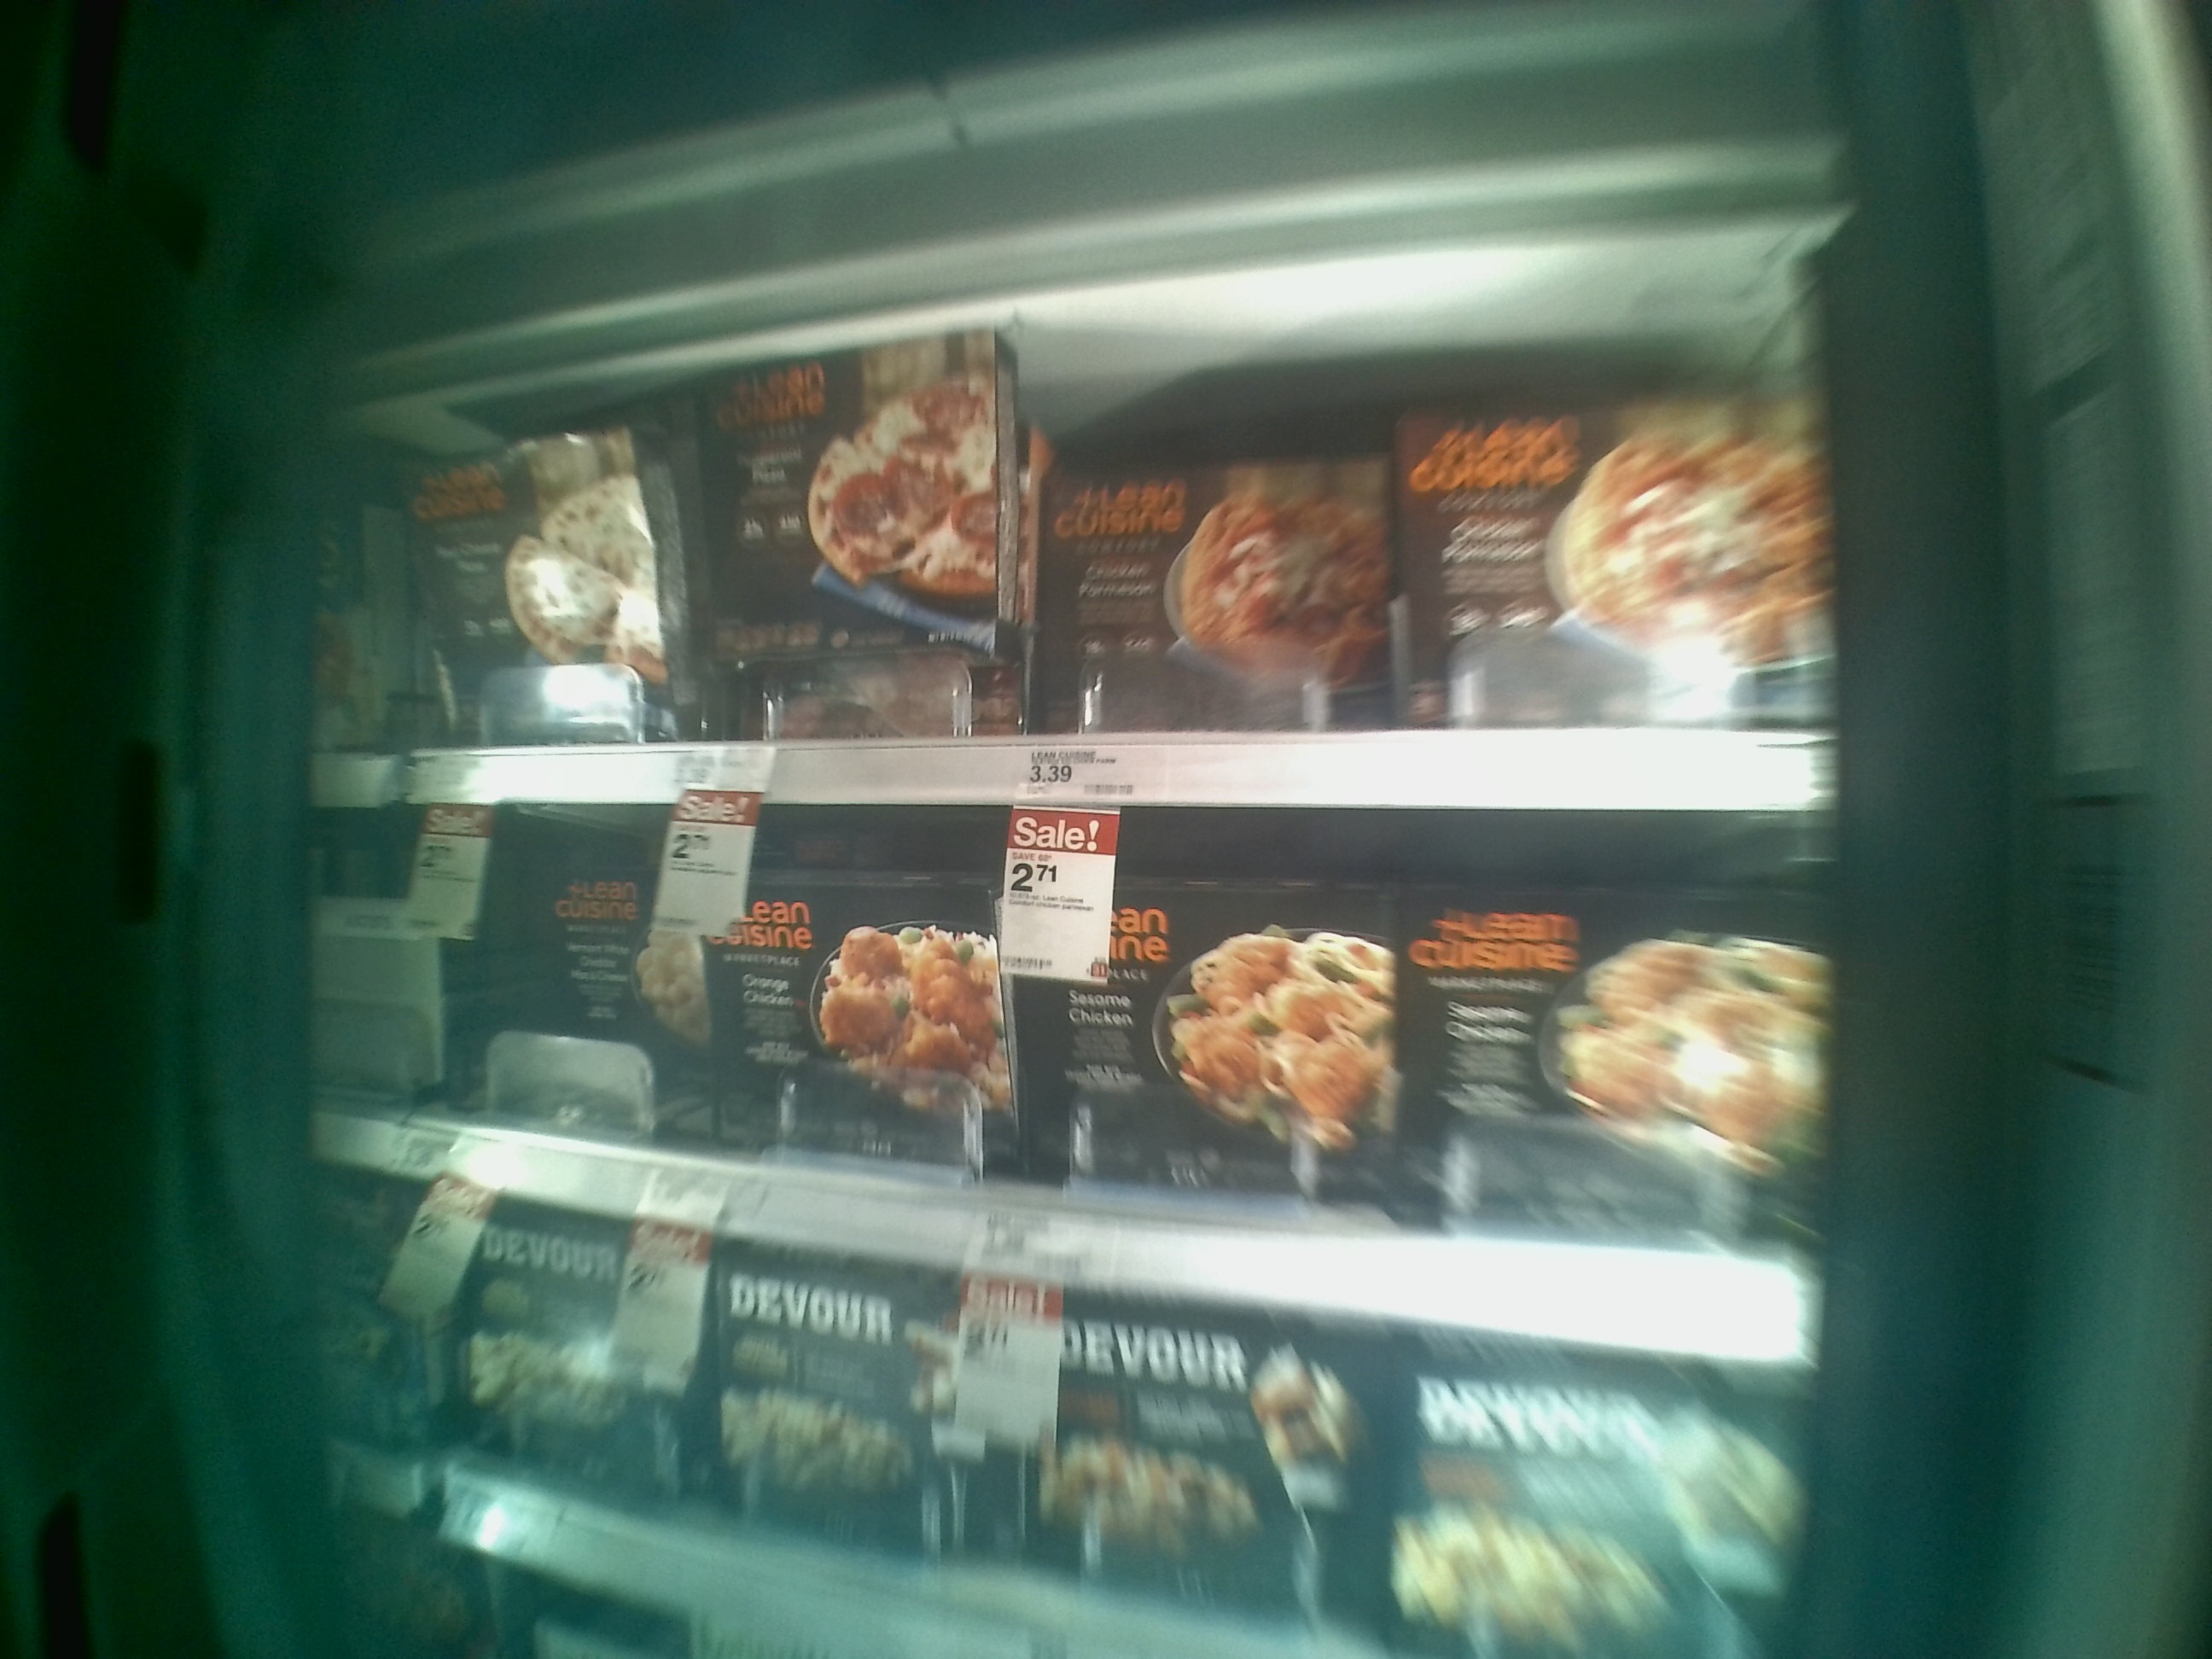shelf: (319, 261, 1825, 814)
